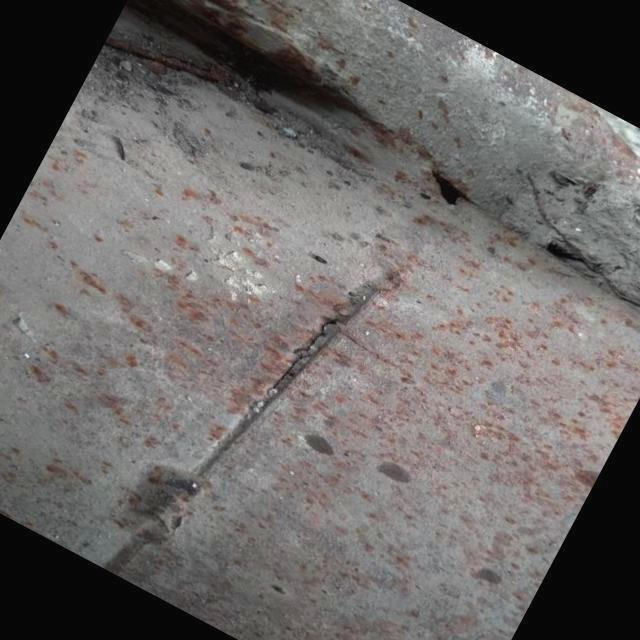defect: (262, 315, 351, 400)
